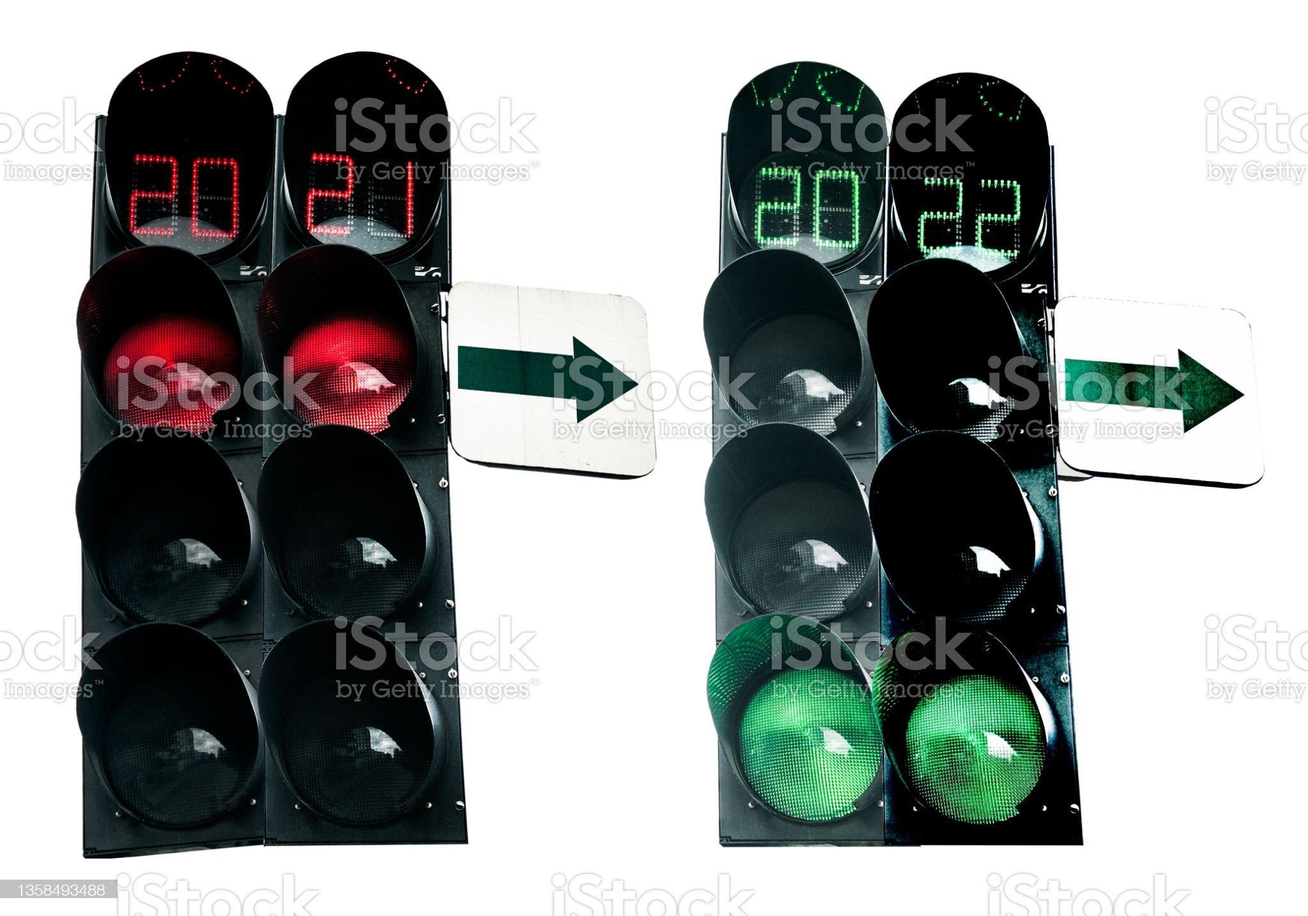green: (675, 62, 1096, 850)
